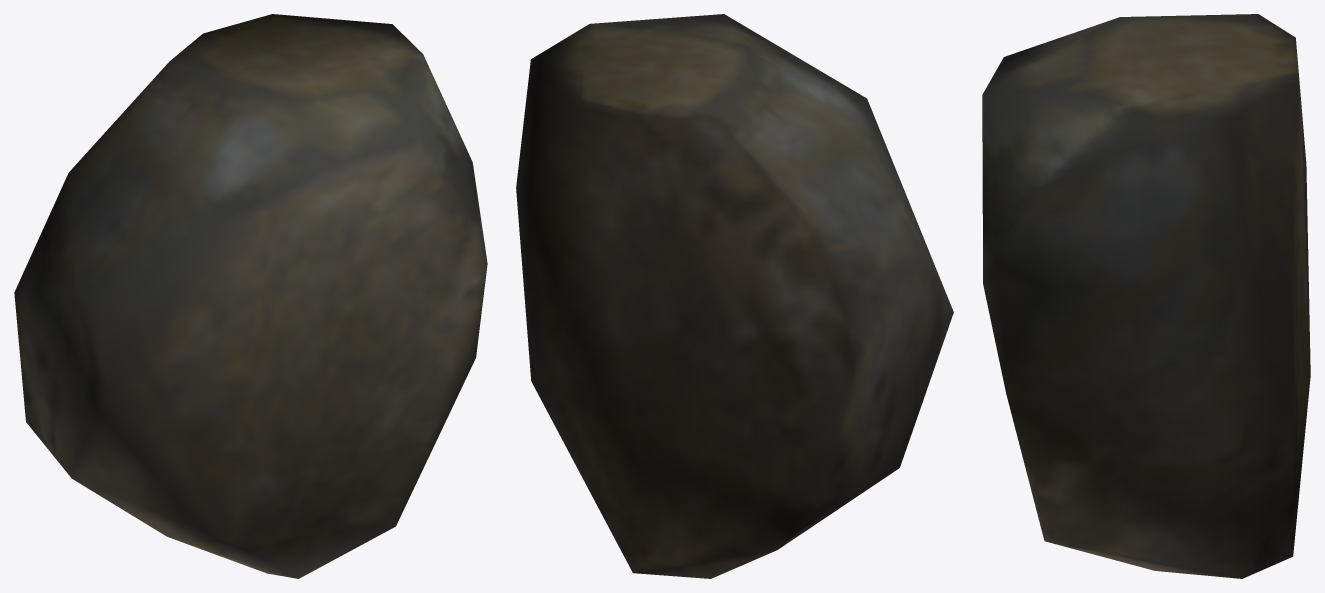
Rendered from rock_detail_04.obj.
The picture shows the model from 3 angles, left to right: view 1: azimuth 30°, elevation 25°; view 2: azimuth 150°, elevation 25°; view 3: azimuth 270°, elevation 25°; orthographic projection. The views are drawn at different scales.
Parts seen in each view (by area): view 1: rock_detail_04; view 2: rock_detail_04; view 3: rock_detail_04.
Boxes of the visible parts, x1,y1,x2,y2 form: rock_detail_04: (14,14,487,578); rock_detail_04: (516,14,953,578); rock_detail_04: (982,14,1310,578).
Size of the model in its own units: 1.24 by 1.6 by 0.8787.
Materials: 1 (1 with a texture image).
